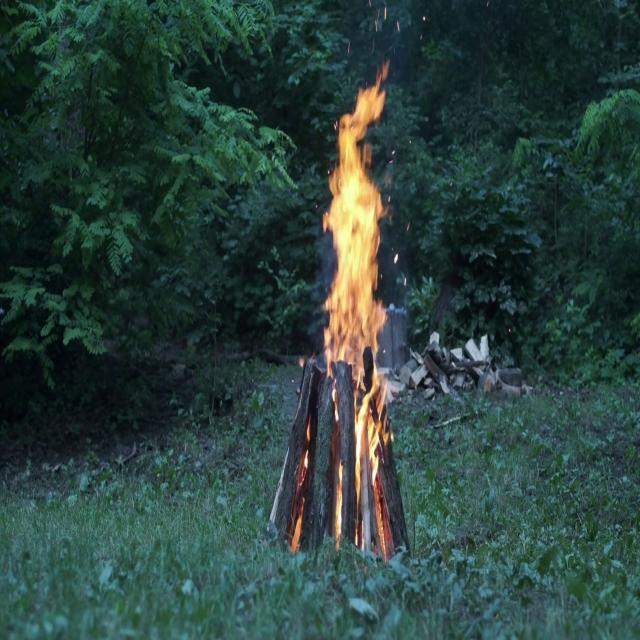Fire: (313, 59, 402, 526)
